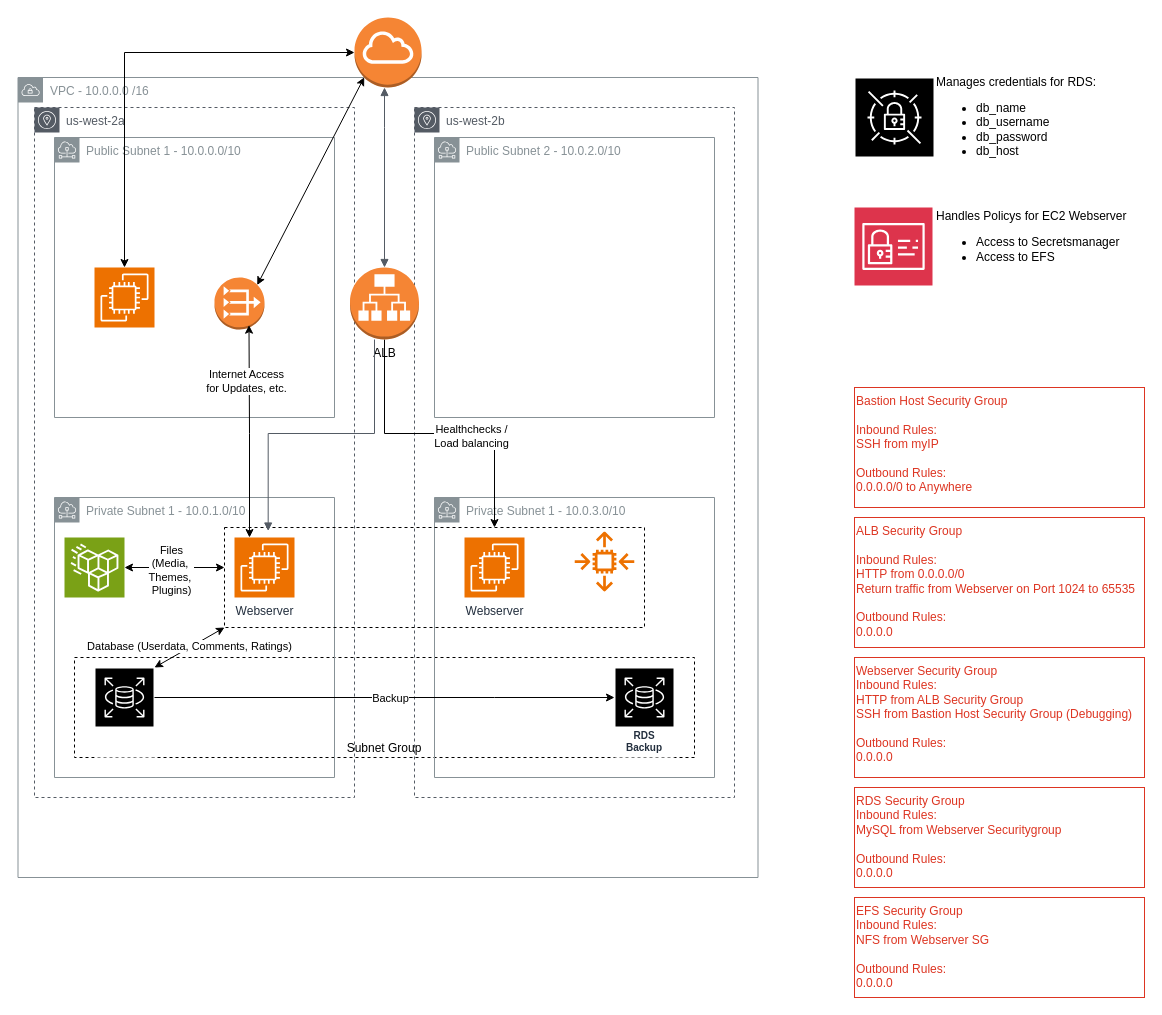
The diagram is 1162 pixels wide and 1015 high, and some of its shapes have lost their labels. Here are the shapes that lost their labels. From the top down, the centre of each, then its label:
At (x=388, y=52): "Internet Gateway".
At (x=894, y=132): "AWS Secrets Manager".
At (x=893, y=246): "IAM".
At (x=124, y=297): "Bastion Host".
At (x=239, y=303): "NAT Gateway".
At (x=94, y=567): "EFS".
At (x=604, y=561): "Autoscaling Group".
At (x=124, y=712): "RDS".
